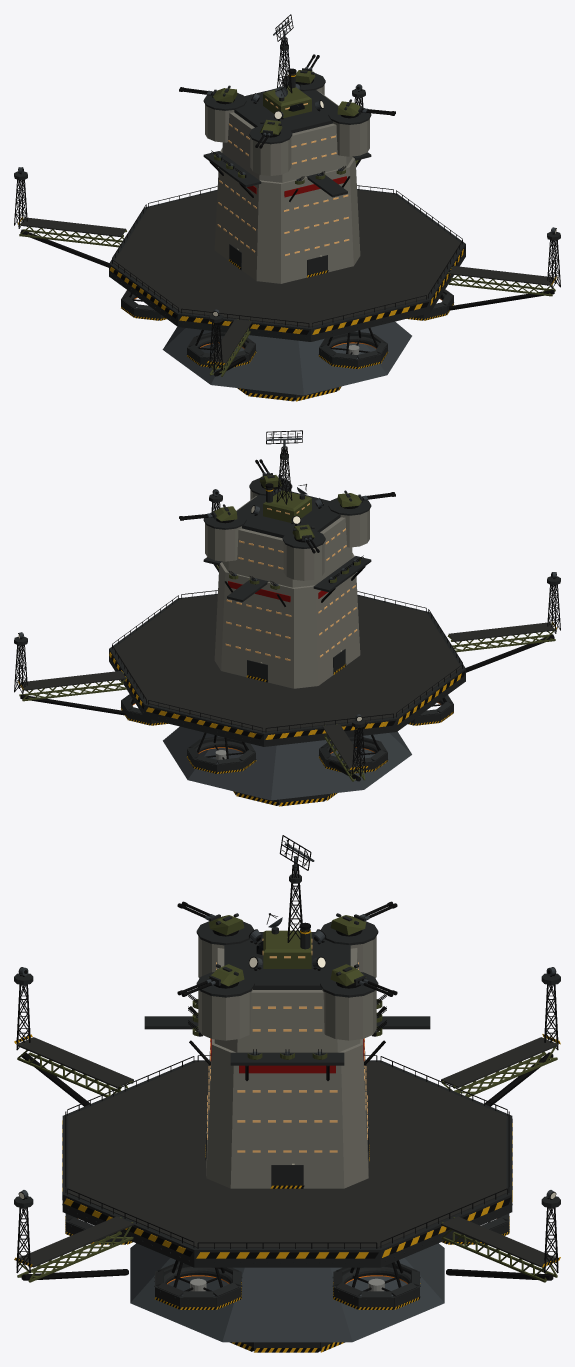
File: station_command.obj
3 renders of one model, top to bottom at view 1: azimuth 30°, elevation 25°; view 2: azimuth 150°, elevation 25°; view 3: azimuth 270°, elevation 25°, orthographic. The views are drawn at different scales.
Parts seen in each view (by area): view 1: station_command; view 2: station_command; view 3: station_command.
Boxes of the visible parts, x1,y1,x2,y2 form: station_command: [14, 14, 560, 401]; station_command: [14, 430, 560, 806]; station_command: [14, 835, 560, 1352].
Bounding box in the file's own units: 1500 × 1436 × 1500.
1 material, 1 textured.
